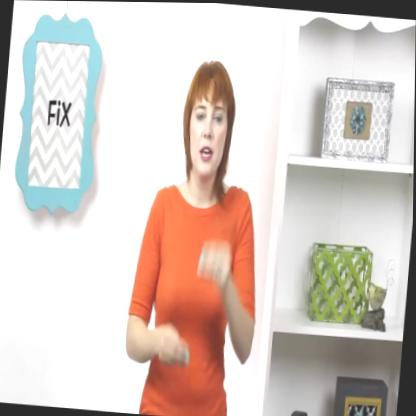Fix: (153, 211, 233, 385)
